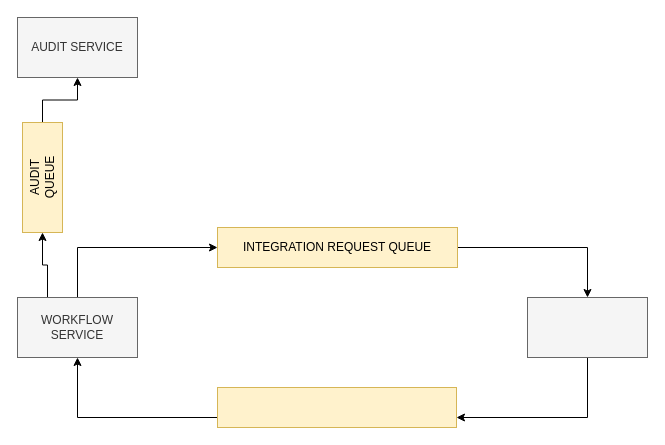
Some shapes in this 665 by 445 pixel diagram are drawn without their labels. The box of each missing label's shape, as (x1, y1, x2, y2) in pixels:
INTEGRATION RESPONSE QUEUE: (216, 386, 456, 428)
INTEGRATION SERVICE: (526, 296, 648, 358)
